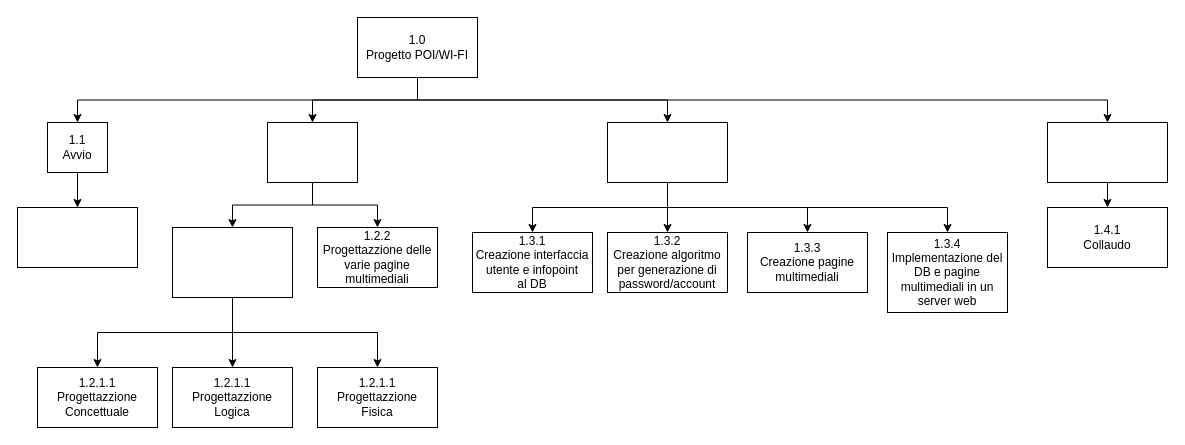
This 1185x445 diagram has some shape labels left out. The centre of each missing label's shape, as x and y in pixels:
1.1.1 Analisi della commessa: point (77, 237)
1.2 Pianificazione: point (312, 152)
1.2.1 Progettazione Database: point (232, 262)
1.3 Realizzazione: point (667, 152)
1.4 Chiusura: point (1107, 152)
